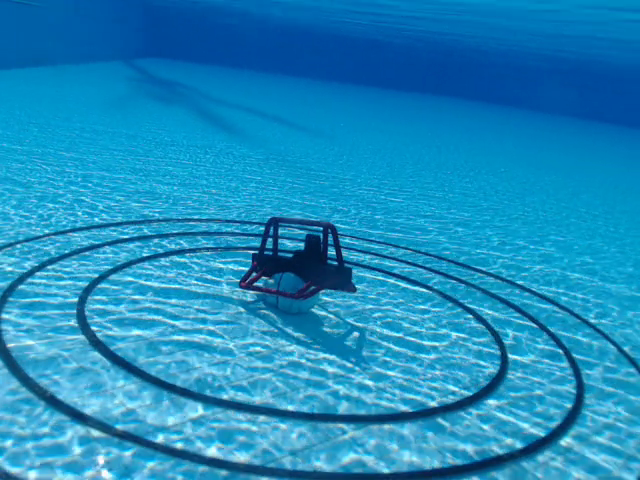submarine: (238, 215, 359, 303)
